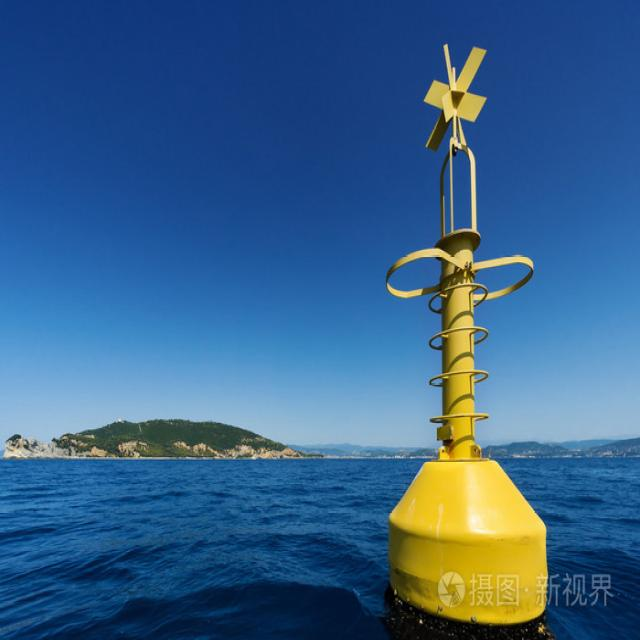buoy: (382, 37, 554, 619)
